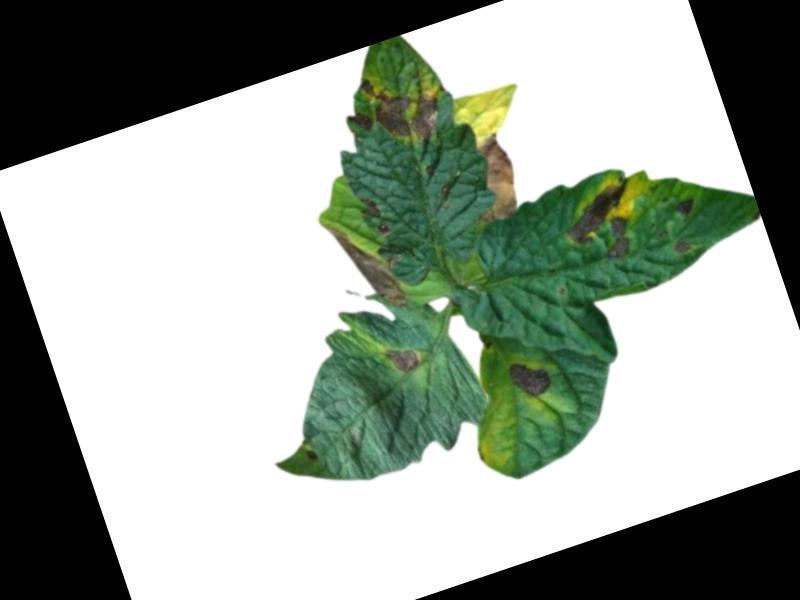Early_blight: (321, 209, 408, 324), (554, 176, 651, 272), (355, 57, 448, 155), (452, 130, 529, 229), (504, 352, 553, 403), (381, 341, 425, 383), (359, 192, 390, 240), (343, 105, 374, 137), (669, 196, 698, 220), (672, 238, 693, 258), (304, 447, 320, 466)
